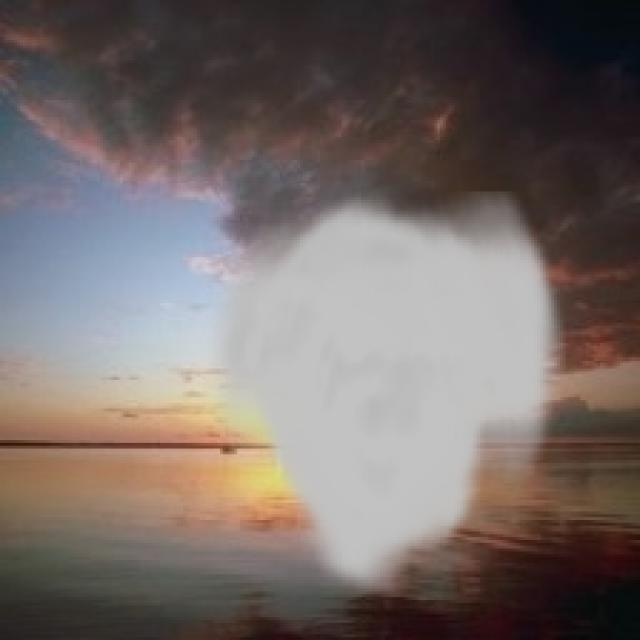Smoke: (200, 192, 566, 597)
